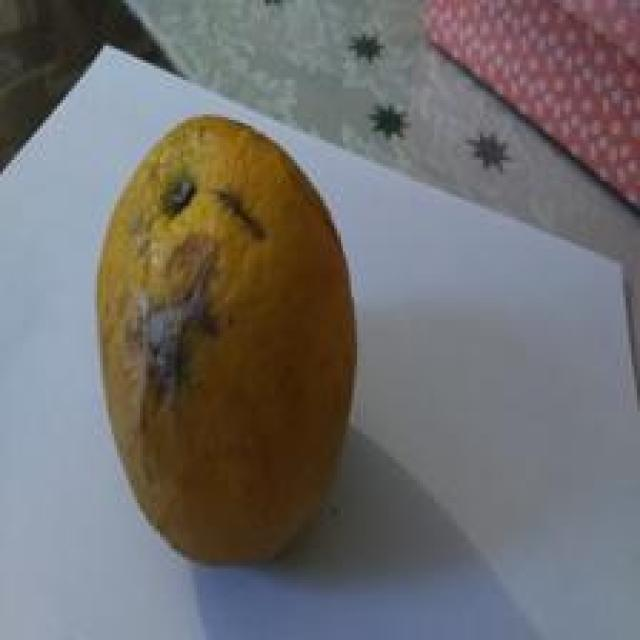overripe: (91, 104, 366, 573)
